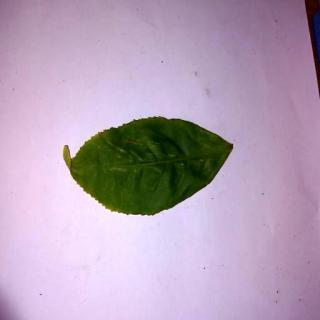Bird Eye Spot: (65, 117, 235, 218)
